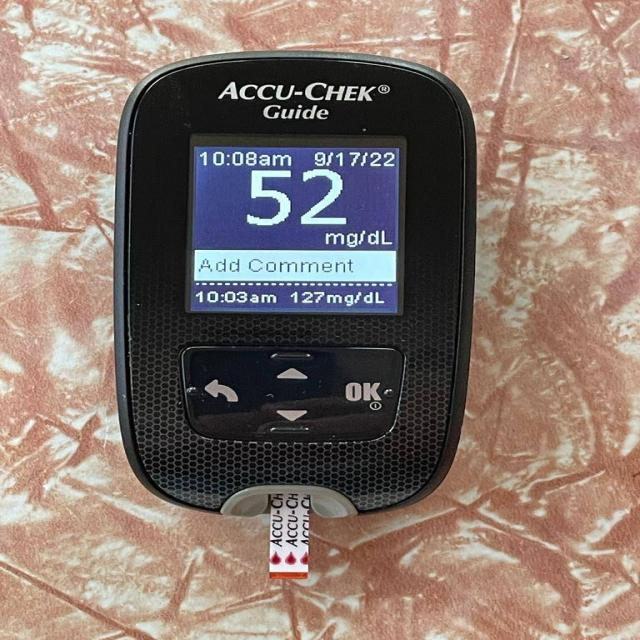gluco: (113, 51, 477, 520)
